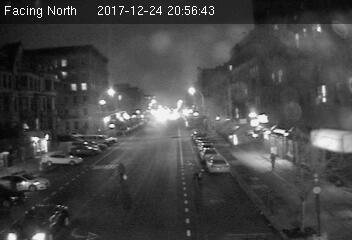car: (5, 197, 77, 239), (207, 154, 230, 174)
